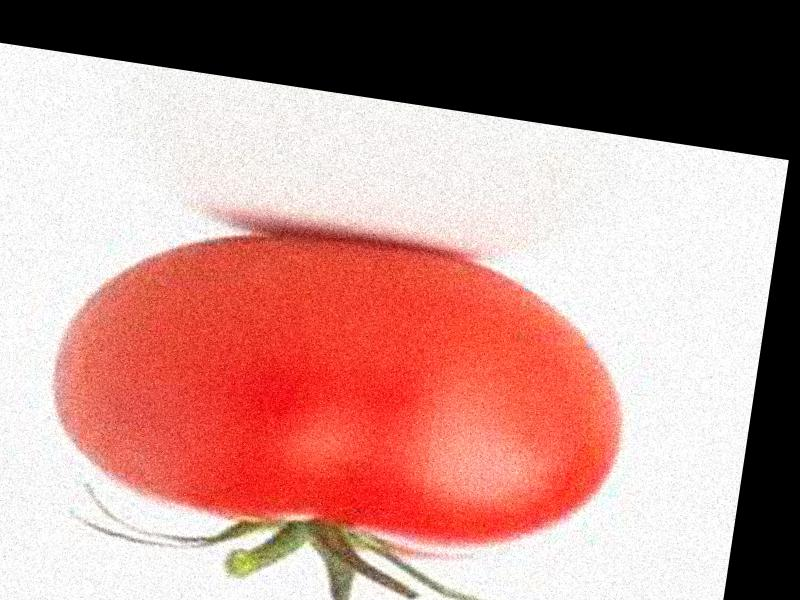Tomato: (41, 200, 643, 574)
